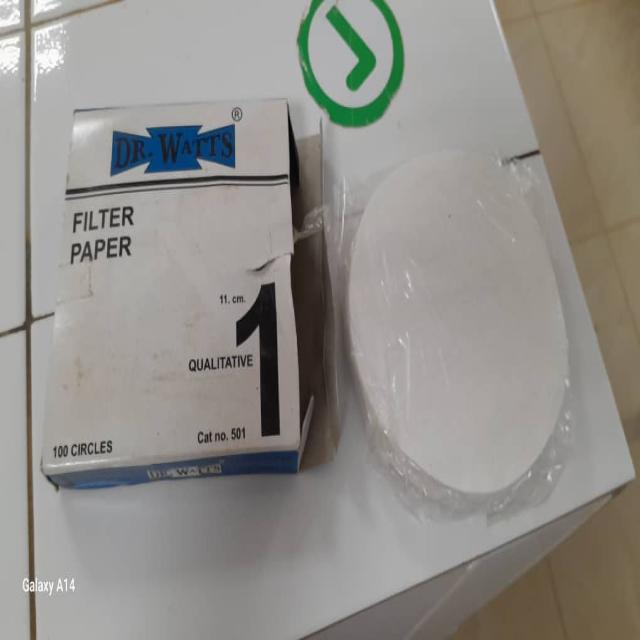Filter paper: (346, 143, 569, 506)
